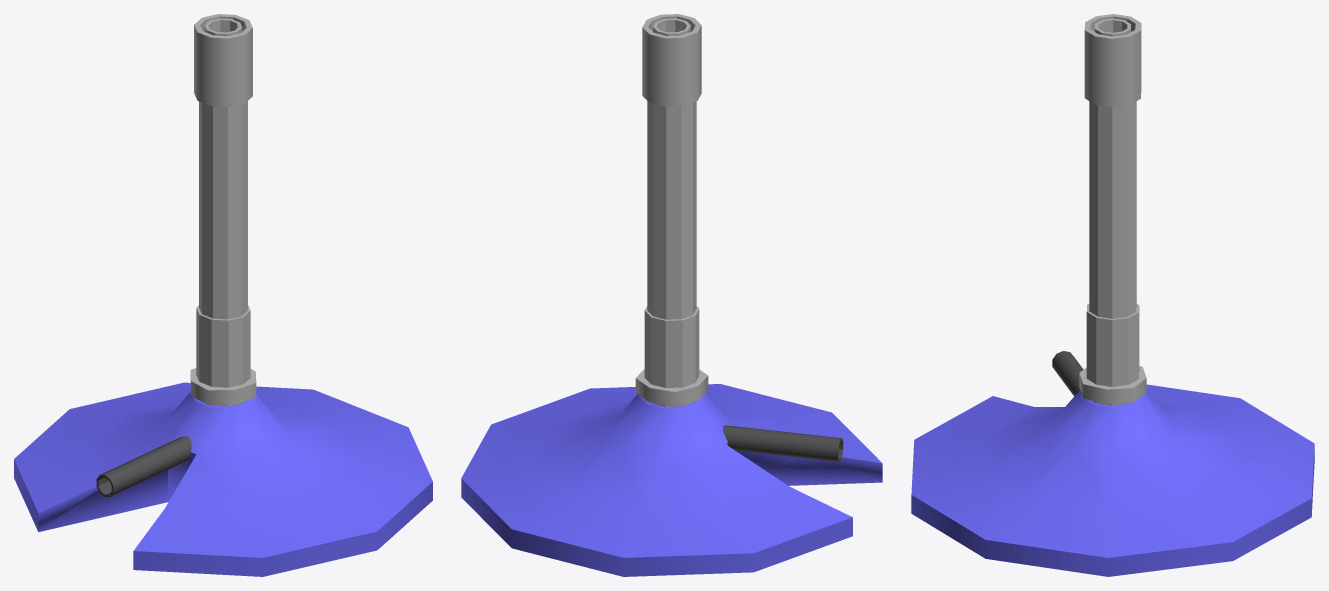
Rendered from Bunsen Burner.fbx.
3 renders of one model, left to right at view 1: azimuth 30°, elevation 25°; view 2: azimuth 150°, elevation 25°; view 3: azimuth 270°, elevation 25°, orthographic.
Visible parts, largest first — view 1: Bunsen_Burner; view 2: Bunsen_Burner; view 3: Bunsen_Burner.
Part boxes in pixels (<box>): Bunsen_Burner: <box>14,14,432,576</box>; Bunsen_Burner: <box>461,14,882,576</box>; Bunsen_Burner: <box>911,14,1314,576</box>.
Size of the model in its own units: 2.32 by 2.81 by 2.22.
